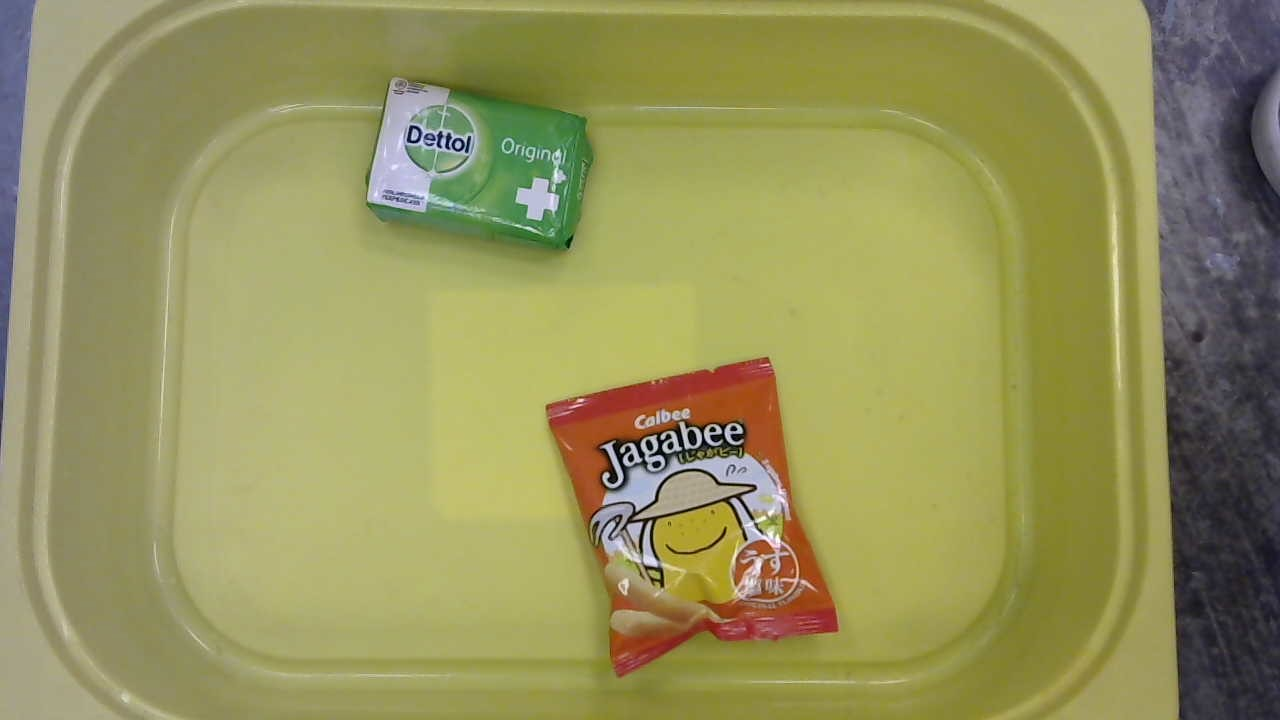Dettol: (357, 74, 593, 257)
JagabeeFarmer: (536, 356, 845, 685)
